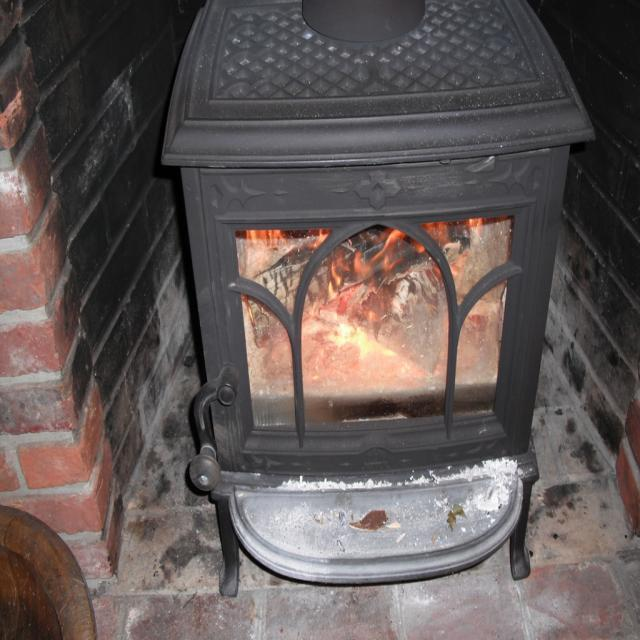Fire: (244, 227, 494, 391)
